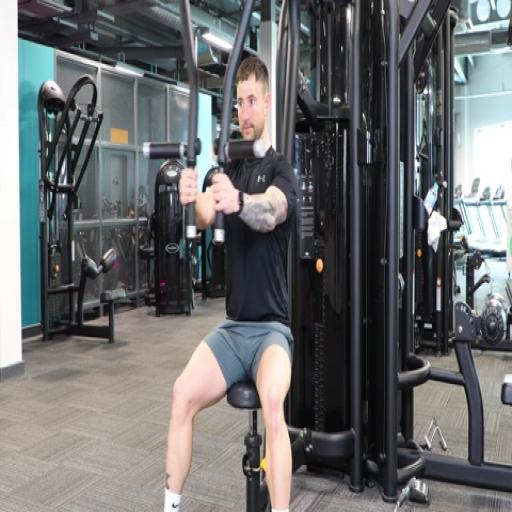exercise: (155, 54, 304, 511)
